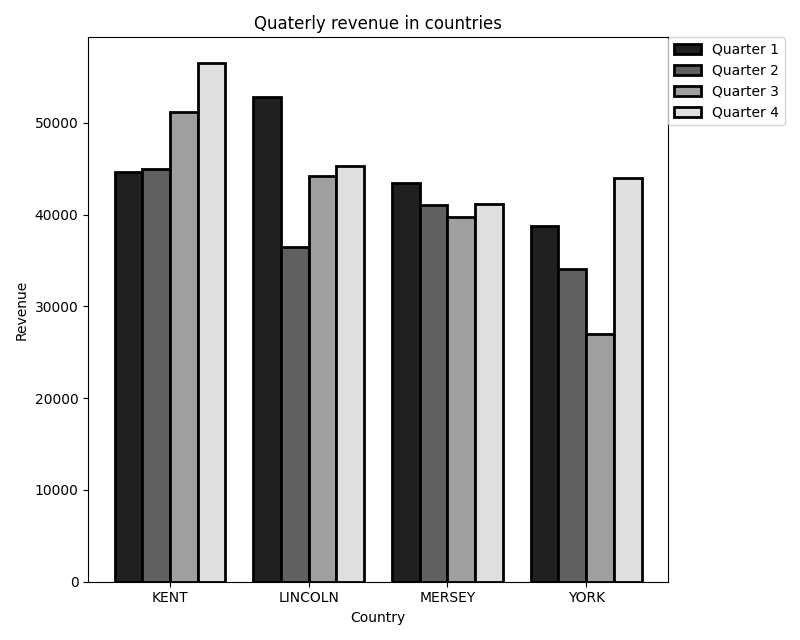canvas: (100, 61, 655, 584)
legend: (673, 39, 783, 122)
title: (241, 10, 514, 36)
x-axis: (82, 579, 682, 587)
x-labels: (141, 589, 618, 607)
x-title: (342, 610, 409, 626)
y-axis: (81, 30, 95, 589)
y-labels: (34, 68, 80, 593)
y-title: (11, 275, 30, 347)
